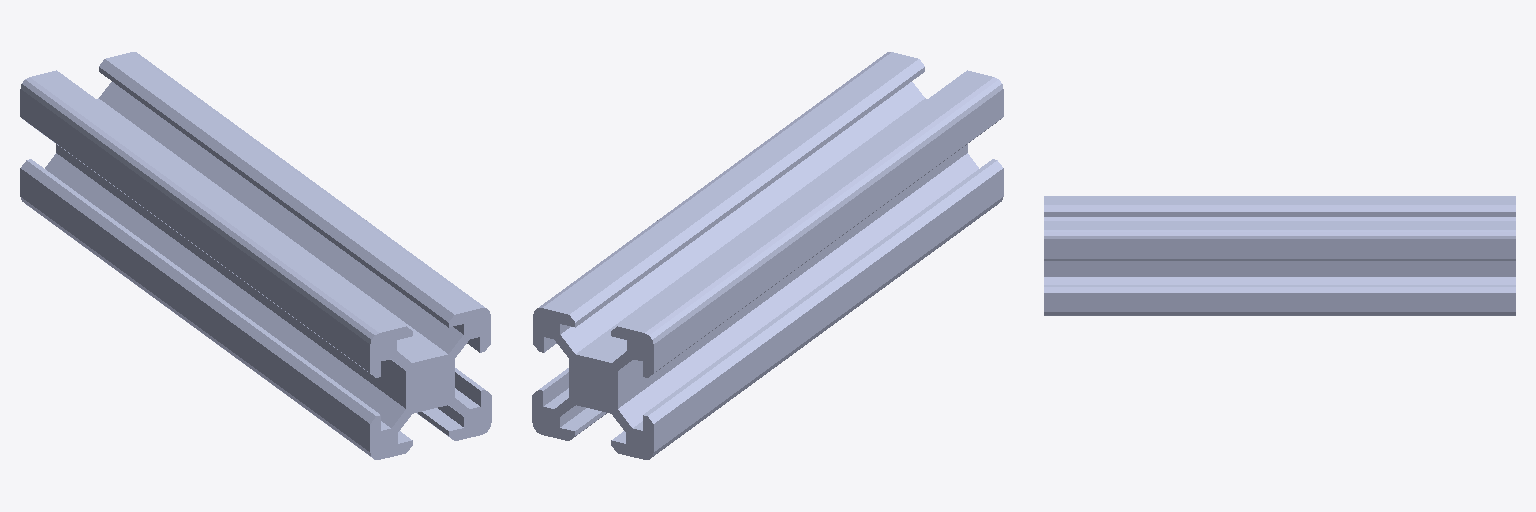
robot.urdf — Part2.SLDPRT:
<?xml version="1.0" encoding="utf-8"?>
<!-- This URDF was automatically created by SolidWorks to URDF Exporter! Originally created by [author] ([email redacted]) 
     Commit Version: 1.5.1-0-g916b5db  Build Version: 1.5.7152.31018
     For more information, please see http://wiki.ros.org/sw_urdf_exporter -->
<robot
  name="Part2.SLDPRT">
  <link
    name="Extrusion_20x20.SLDPRT">
    <inertial>
      <origin
        xyz="-0.0099598 -0.05 -0.010002"
        rpy="0 0 0" />
      <mass
        value="0.49" />
      <inertia
        ixx="1.6616E-05"
        ixy="1.71976230802367E-22"
        ixz="1.3681E-09"
        iyy="1.4254E-06"
        iyz="1.17743157296564E-21"
        izz="1.6613E-05" />
    </inertial>
    <visual>
      <origin
        xyz="0 0 0"
        rpy="1.5707963267949 0 0" />
      <geometry>
        <mesh
          filename="package://suii_description/Field/objects/meshes/alu_prof_small_black.dae" />
      </geometry>
      <material
        name="">
        <color
          rgba="0.79216 0.81961 0.93333 1" />
        <texture
          filename="package://suii_description/Field/objects/textures/" />
      </material>
    </visual>
    <collision>
      <origin
        xyz="0 0 0"
        rpy="1.5707963267949 0 0" />
      <geometry>
        <mesh
          filename="package://suii_description/Field/objects/meshes/alu_prof_small_black.dae" />
      </geometry>
    </collision>
  </link>
</robot>

--- What the picture shows (computed from the rendered views, not written in the file) ---
Views: 3 orthographic renders of the robot side by side, from view 1: azimuth 30°, elevation 25°; view 2: azimuth 150°, elevation 25°; view 3: azimuth 270°, elevation 25°.
Robot: Part2.SLDPRT — 1 links, 0 joints (none); root link Extrusion_20x20.SLDPRT; default pose: all joints at 0.
Links seen in each view (by area): view 1: Extrusion_20x20.SLDPRT; view 2: Extrusion_20x20.SLDPRT; view 3: Extrusion_20x20.SLDPRT.
Link boxes in pixels (left/top/right/bottom): Extrusion_20x20.SLDPRT: left=20, top=52, right=491, bottom=459; Extrusion_20x20.SLDPRT: left=532, top=52, right=1003, bottom=459; Extrusion_20x20.SLDPRT: left=1044, top=196, right=1515, bottom=315.
Bounding box of the posed robot: 0.02 × 0.1 × 0.02 m (x, y, z).
Meshes: 1 distinct files referenced, 1 mesh visuals loaded (1 Collada DAE).
